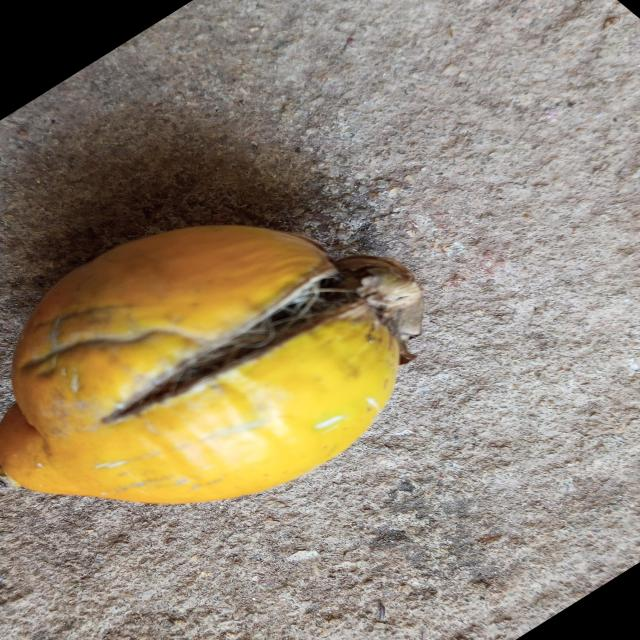damaged: (0, 226, 423, 503)
